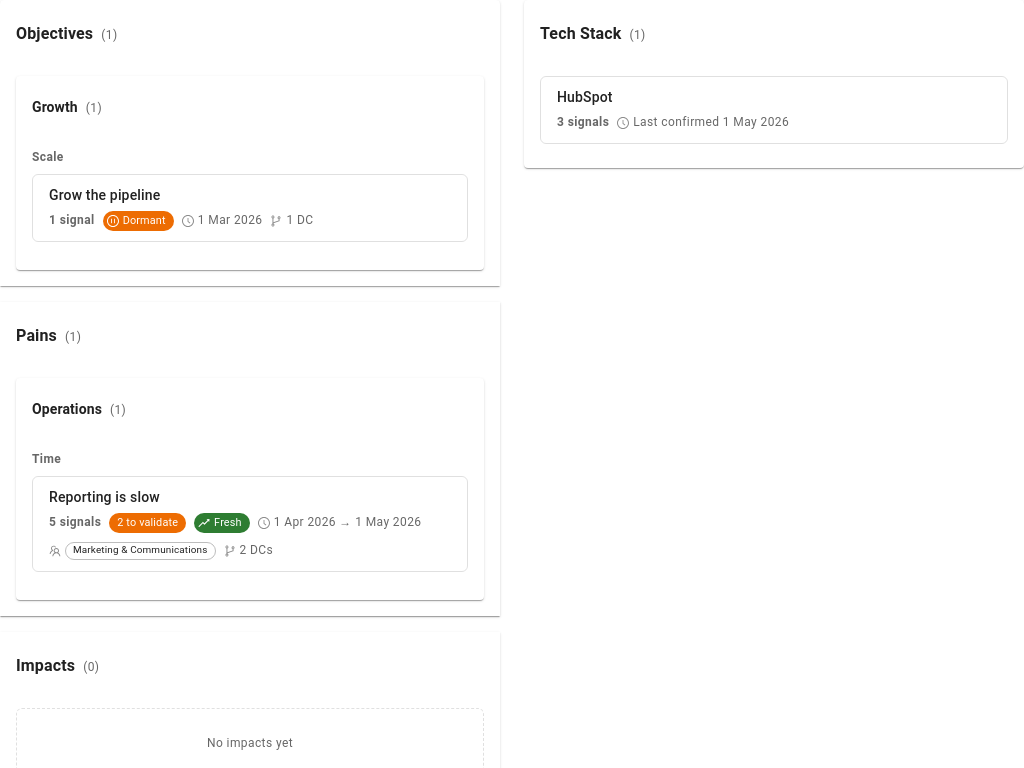
QualificationGroupedView — collapsible sections (open by default) › a domain group inside a section toggles too
This screenshot has width=1024, height=768.
Click the button "Operations (1)".
click(79, 409)  # box [32,401,126,417]
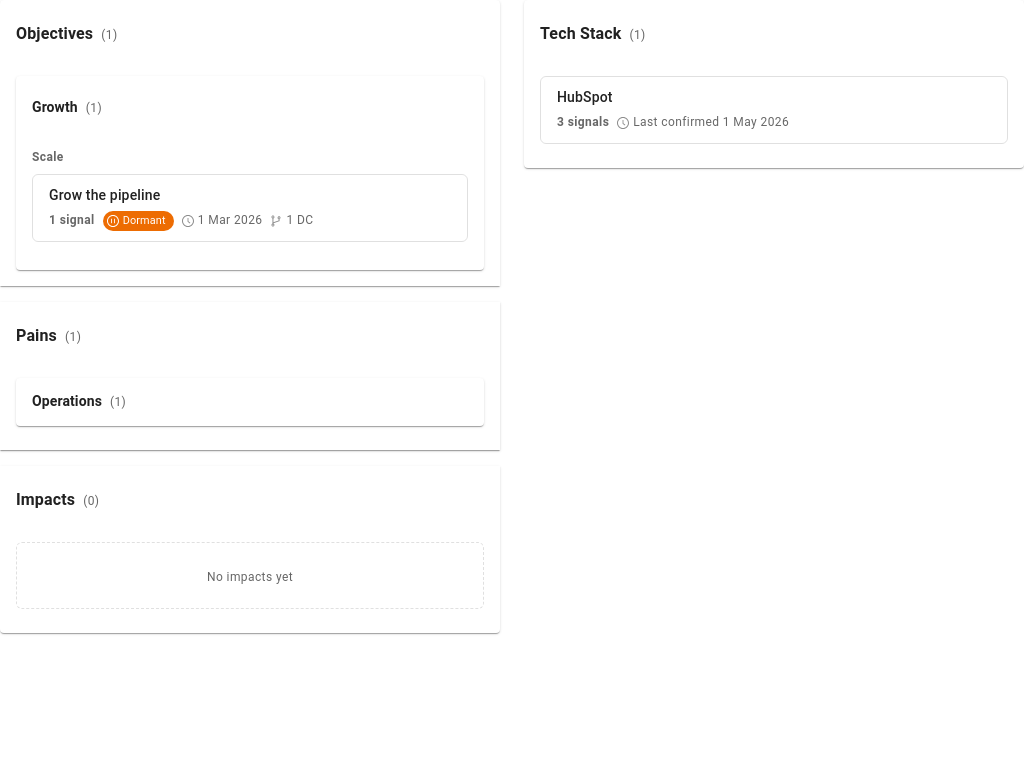
Expected: the button "Operations (1)" is collapsed, [32,393,126,409]
